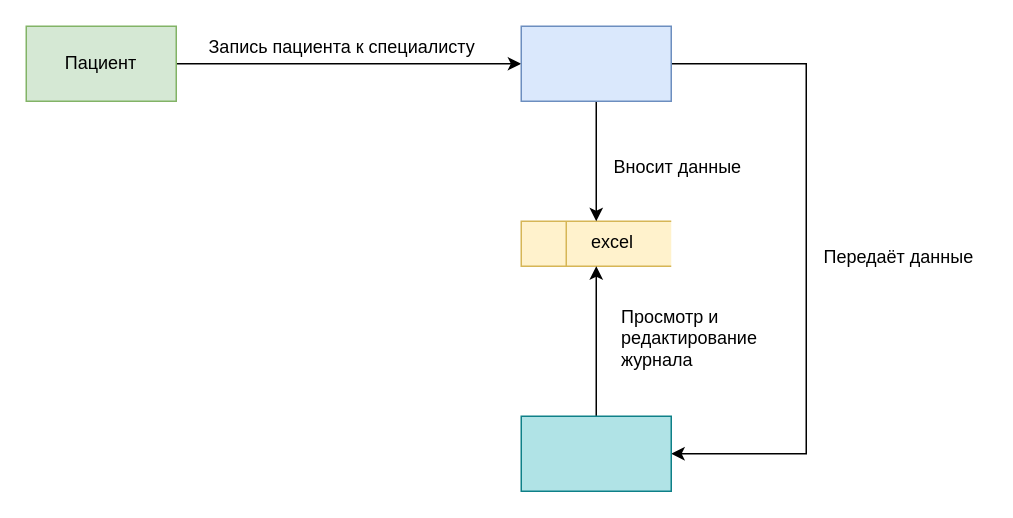
Image size: 1013x518. Some labels were removed from this diagram. Here are the shapes that lost their labels. From the top down, the centre of each, then its label:
At point (595, 63): "Администратор".
At point (595, 453): "Врач".
